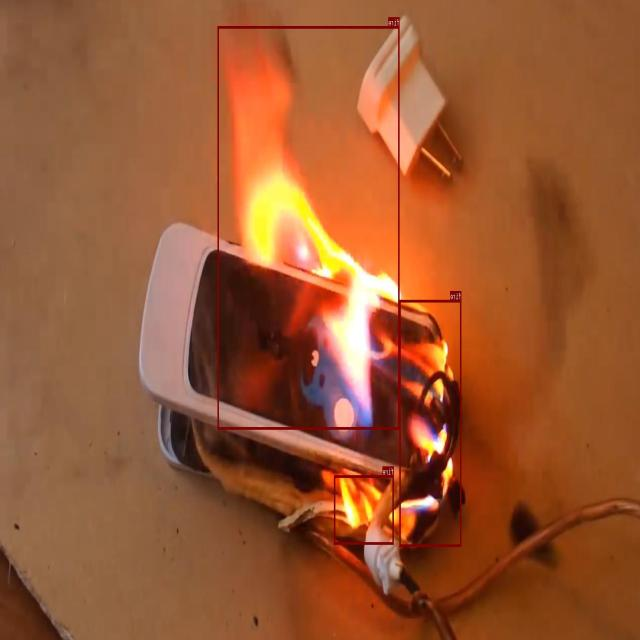fire: (218, 26, 400, 429), (399, 300, 462, 546), (334, 475, 394, 544)
